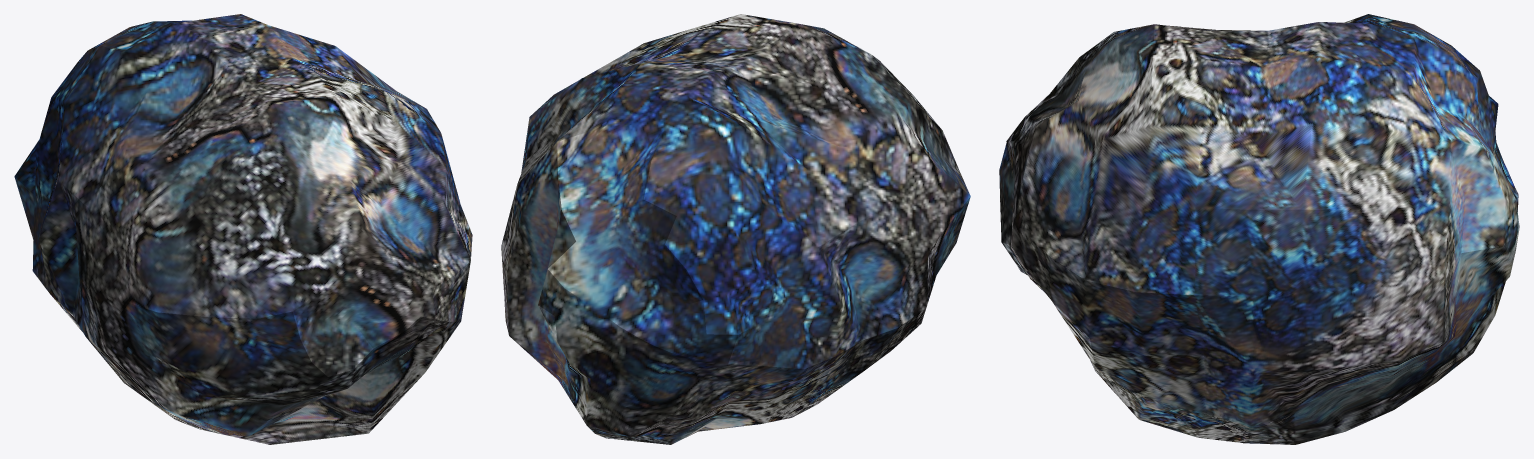
Rendered from Meteor1.fbx.
3 views of the same model, side by side, from view 1: azimuth 30°, elevation 25°; view 2: azimuth 150°, elevation 25°; view 3: azimuth 270°, elevation 25° (orthographic). The views are drawn at different scales.
Visible parts, largest first — view 1: Meteor1; view 2: Meteor1; view 3: Meteor1.
Part boxes in pixels (bbox=[...]): Meteor1: bbox=[14, 14, 472, 444]; Meteor1: bbox=[501, 14, 970, 444]; Meteor1: bbox=[999, 14, 1519, 444].
Size of the model in its own units: 0.0291 by 0.029 by 0.0356.
Materials: 1 (1 with a texture image).
